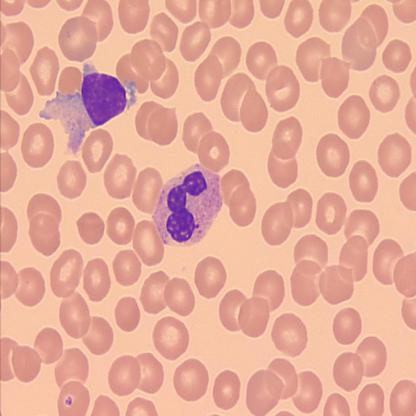Atypical lymphocyte: (41, 64, 139, 155), (154, 162, 226, 247)
